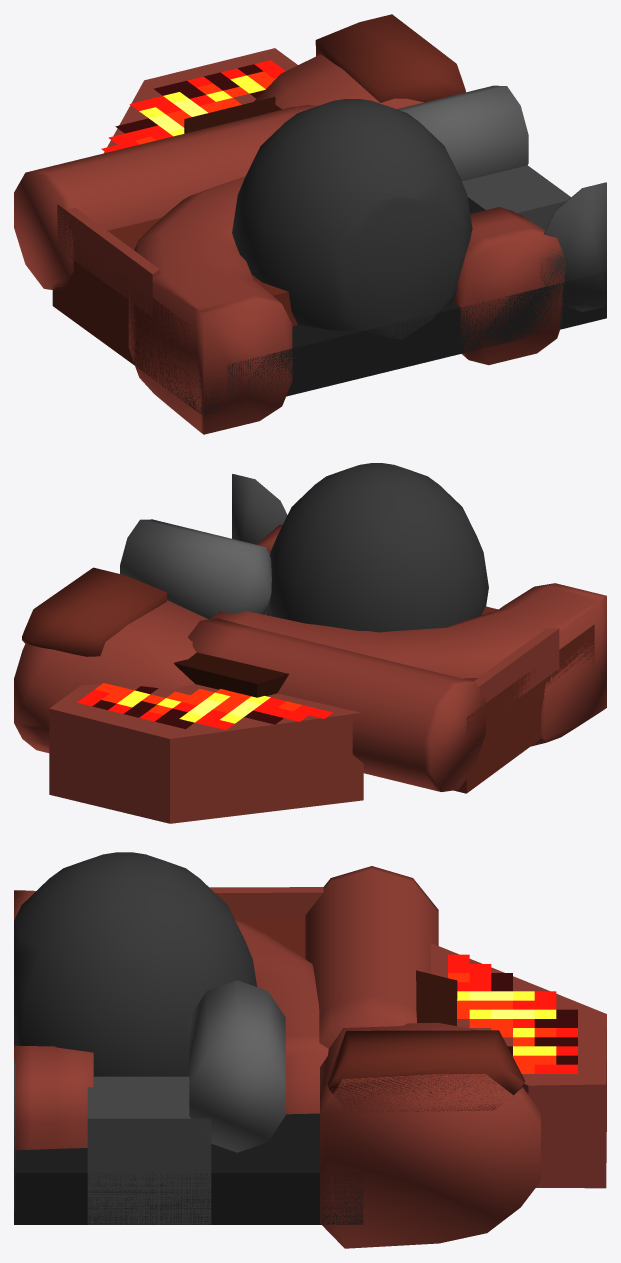
The model's file is newsht-5.glb.
3 views of the same model, one above another, from view 1: azimuth 30°, elevation 25°; view 2: azimuth 150°, elevation 25°; view 3: azimuth 270°, elevation 25° (orthographic). The views are drawn at different scales.
Visible parts, largest first — view 1: newsht-5; view 2: newsht-5; view 3: newsht-5.
Boxes of the visible parts, box(x1,y1,x2,y2) form: newsht-5: box(14, 14, 606, 434); newsht-5: box(14, 463, 606, 823); newsht-5: box(14, 852, 606, 1248).
Size of the model in its own units: 2 by 1.18 by 2.28.
